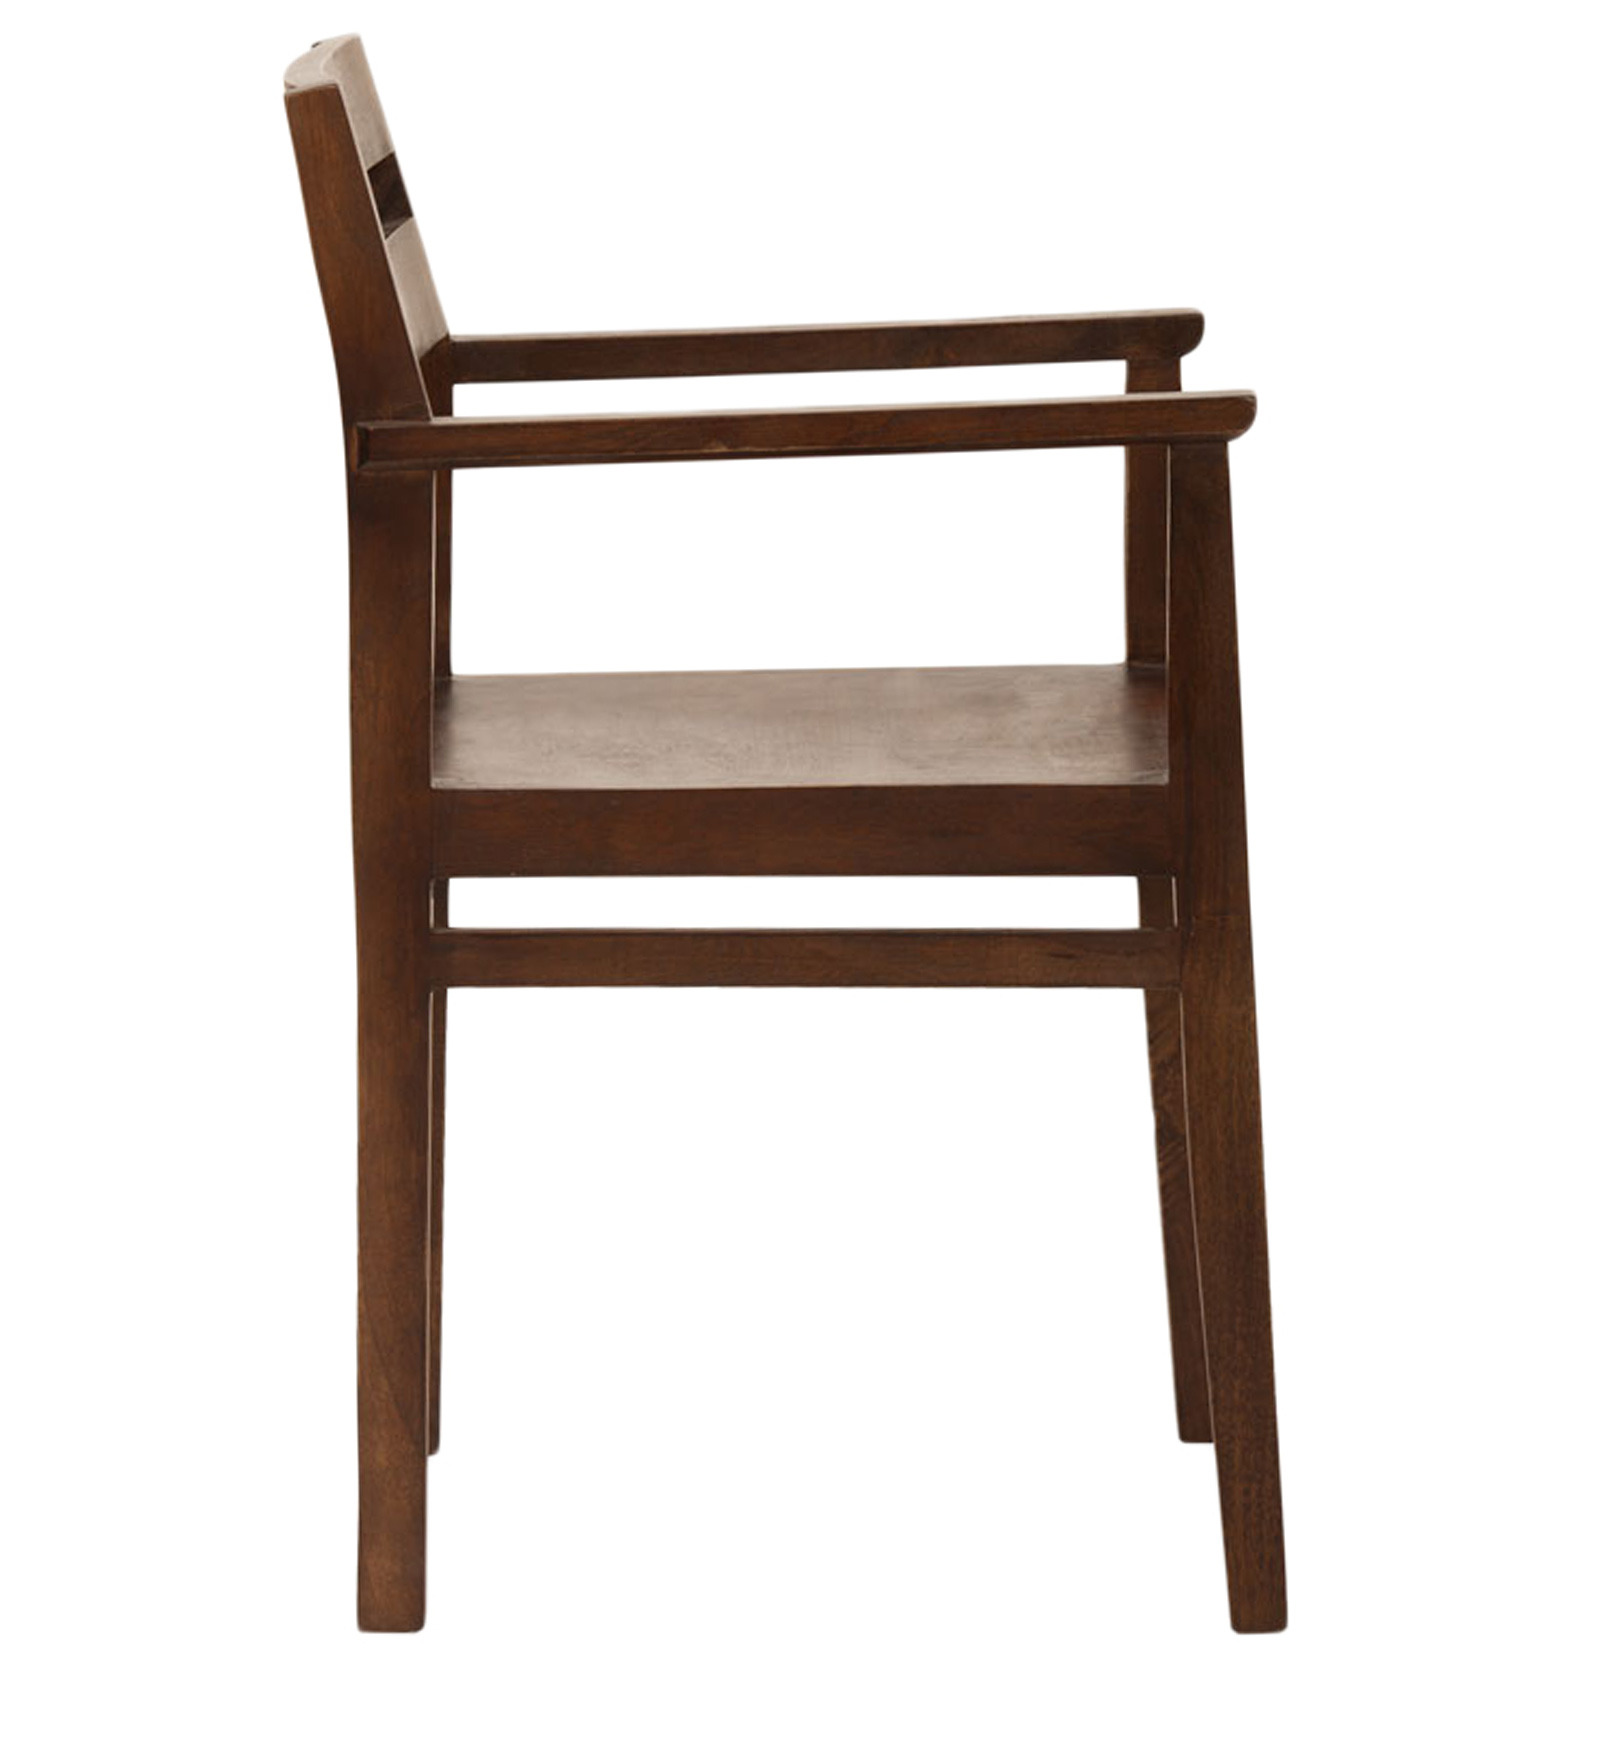Barcelona Solid Wood Arm Chair in Provincial Teak Finish by TheArmchair: (187, 17, 1356, 1685)
